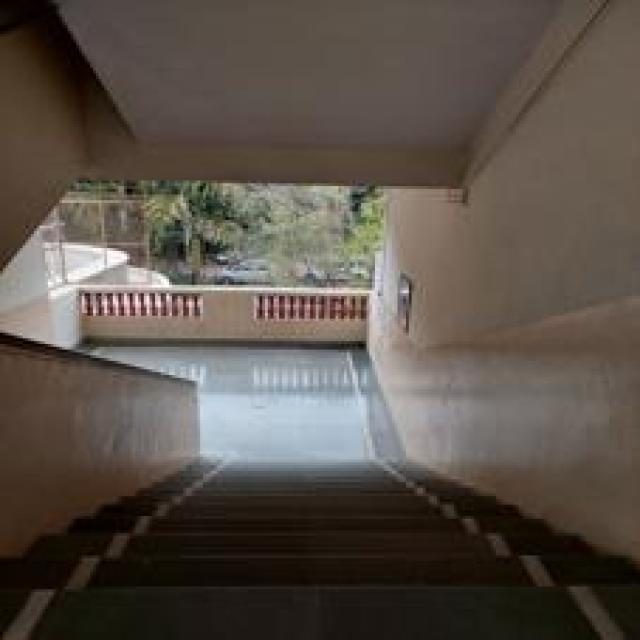downstair: (156, 444, 469, 607)
